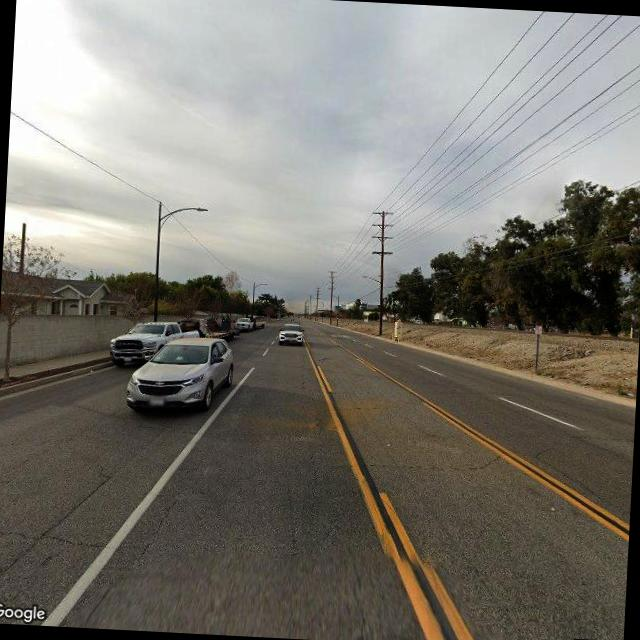crack: (129, 466, 195, 566), (348, 442, 514, 476), (0, 522, 140, 553), (537, 458, 615, 508)
